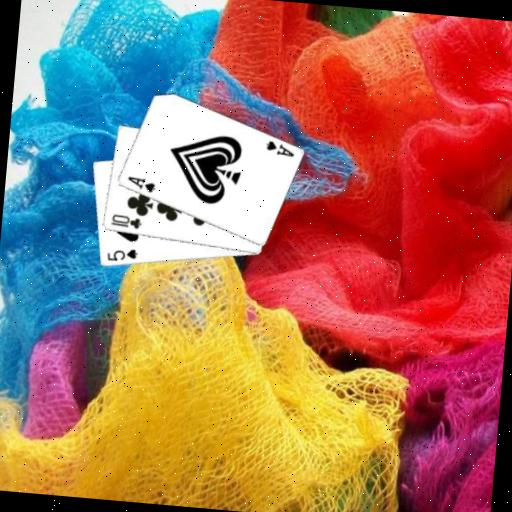10C: (107, 211, 143, 231)
5S: (104, 244, 139, 265)
AS: (262, 137, 297, 159), (124, 173, 158, 194)
